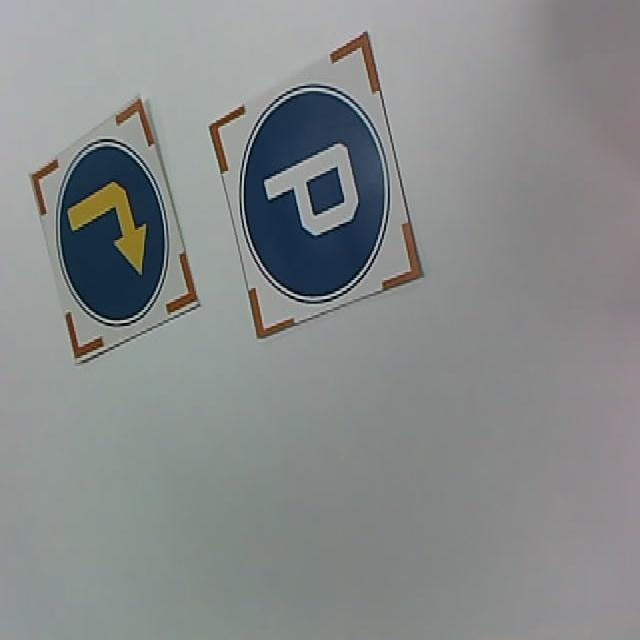parking: (211, 29, 427, 343)
turn: (35, 105, 198, 359)
